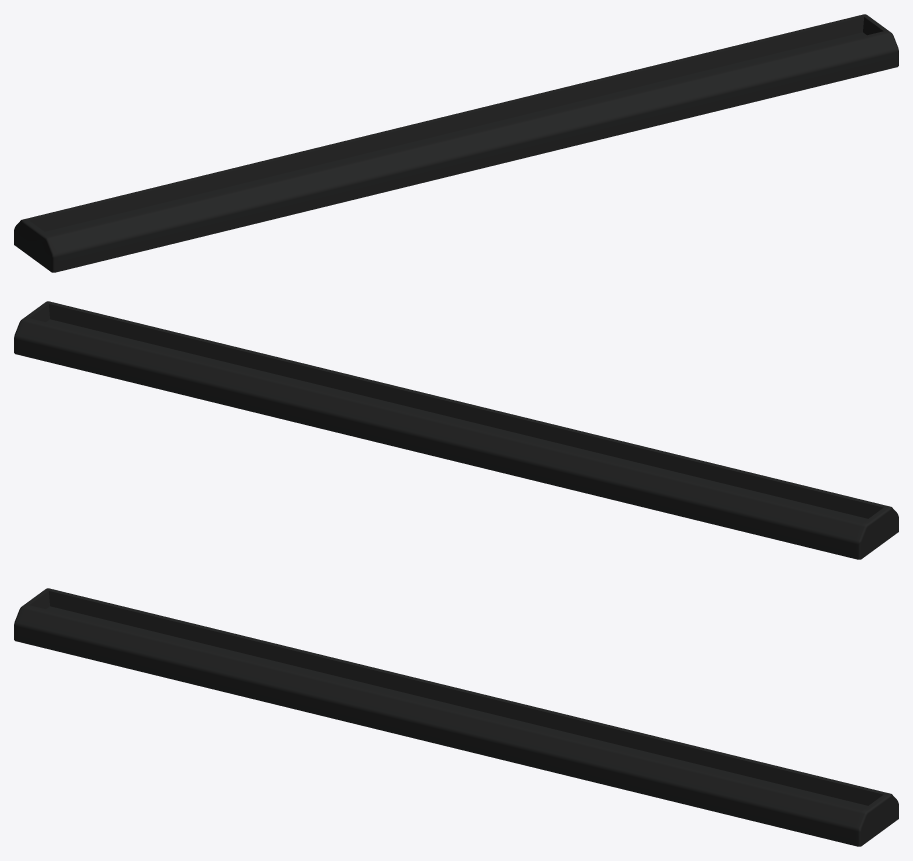
The model's file is obstacle_7_001.fbx.
The picture shows the model from 3 angles, top to bottom: view 1: azimuth 30°, elevation 25°; view 2: azimuth 150°, elevation 25°; view 3: azimuth 330°, elevation 25°; orthographic projection.
Visible parts, largest first — view 1: obstacle_7_001; view 2: obstacle_7_001; view 3: obstacle_7_001.
Boxes of the visible parts, x1,y1,x2,y2 form: obstacle_7_001: (14,14,898,272); obstacle_7_001: (14,301,898,559); obstacle_7_001: (14,588,898,846).
Bounding box in the file's own units: 3575 × 291 × 119.
